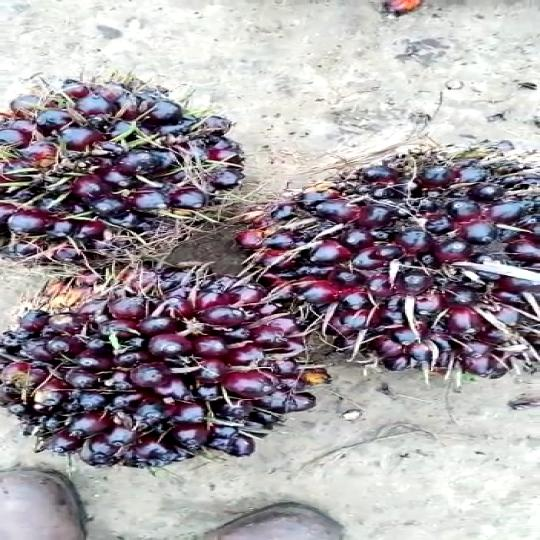mentah: (0, 258, 328, 477), (277, 140, 540, 388), (1, 72, 240, 262)
